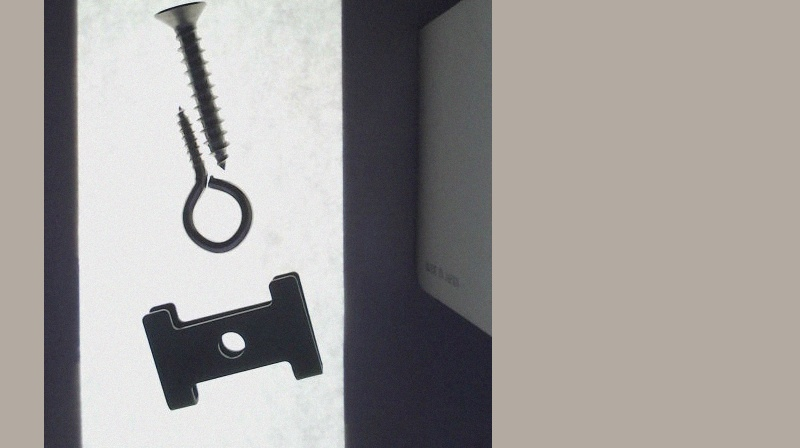O001: (176, 101, 254, 254)
O002: (141, 270, 322, 411)
S001: (154, 0, 227, 171)
